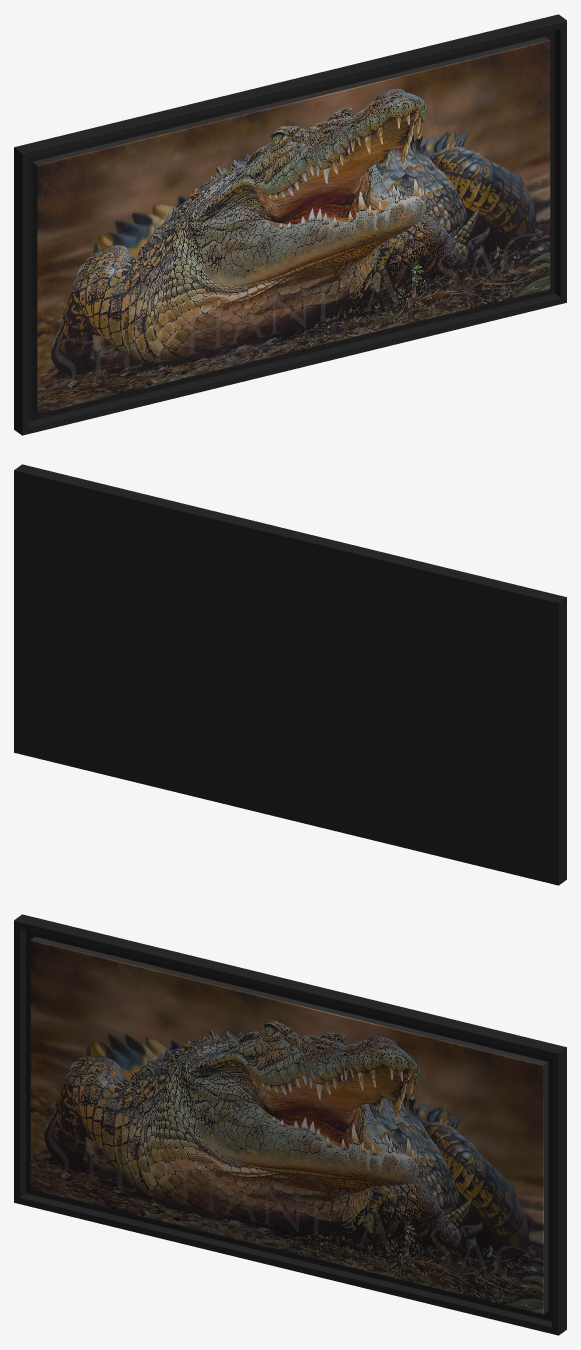
File: tableau-crocodile-grand-6667f173.glb
3 renders of one model, top to bottom at view 1: azimuth 30°, elevation 25°; view 2: azimuth 150°, elevation 25°; view 3: azimuth 330°, elevation 25°, orthographic.
Visible parts, largest first — view 1: Painting; view 2: Painting; view 3: Painting.
Part boxes in pixels (<box>): Painting: <box>14,14,566,435</box>; Painting: <box>14,464,566,885</box>; Painting: <box>14,914,566,1335</box>.
Bounding box in the file's own units: 1.49 × 0.736 × 0.04.
4 materials, 2 textured.
